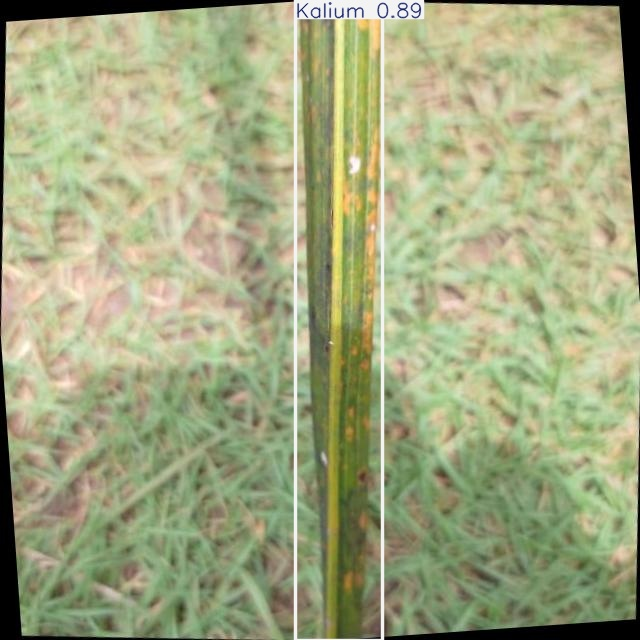Kalium: (296, 0, 383, 640)
